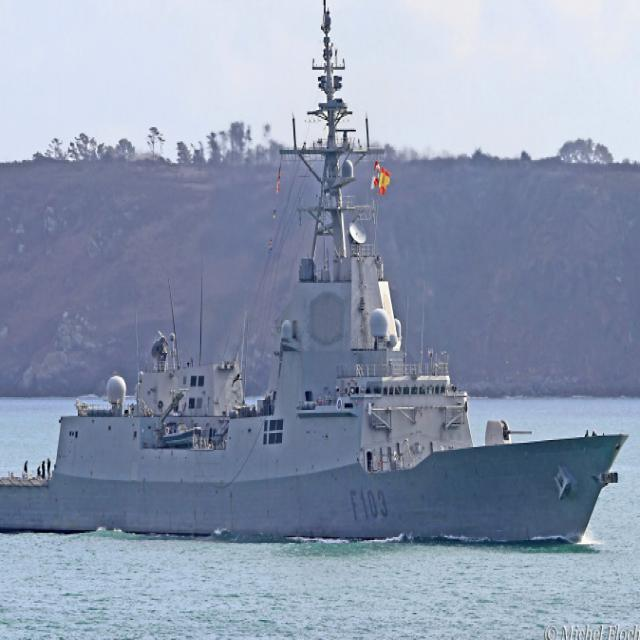Fragata: (1, 1, 631, 552)
